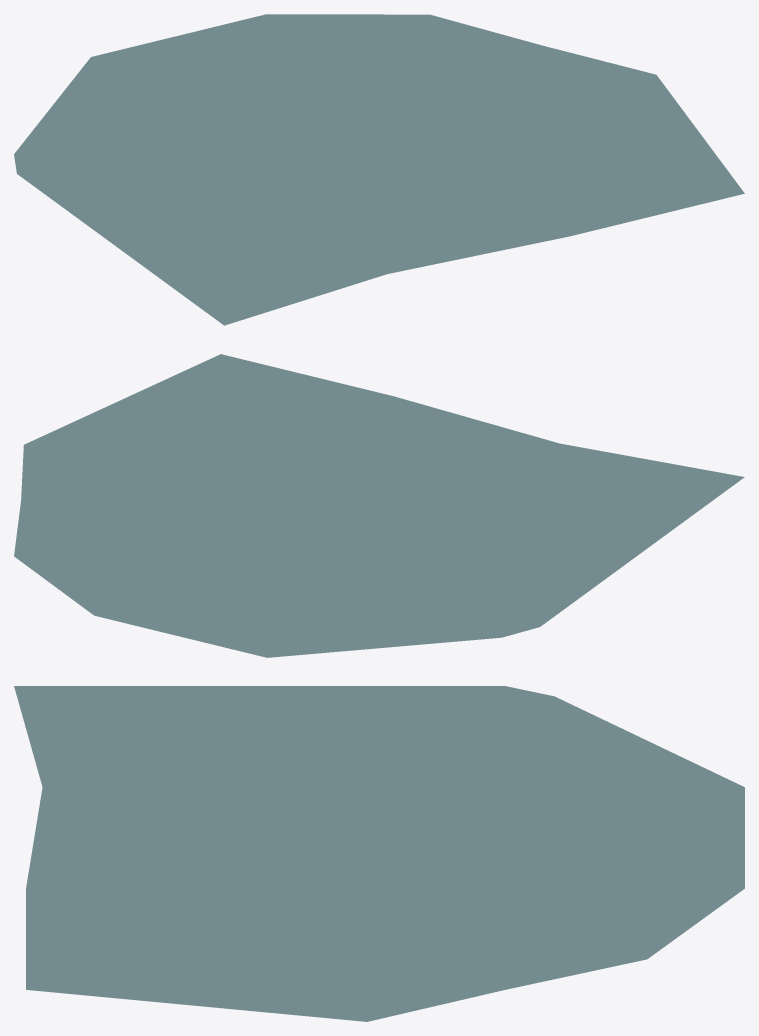
File: Lake_water.fbx
The picture shows the model from 3 angles, top to bottom: view 1: azimuth 30°, elevation 25°; view 2: azimuth 150°, elevation 25°; view 3: azimuth 270°, elevation 25°; orthographic projection. The views are drawn at different scales.
Visible parts, largest first — view 1: Lake_water; view 2: Lake_water; view 3: Lake_water.
Boxes of the visible parts, x1=… form: Lake_water: x1=14, y1=14, x2=744, y2=325; Lake_water: x1=14, y1=354, x2=744, y2=657; Lake_water: x1=14, y1=686, x2=744, y2=1021.
Size of the model in its own units: 553 by 5.68e-11 by 508.
